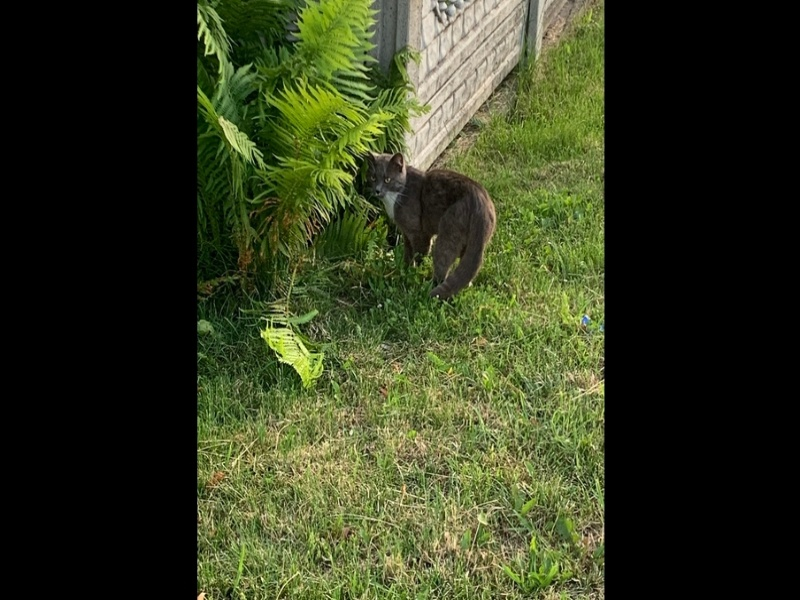cat: (357, 148, 500, 296)
